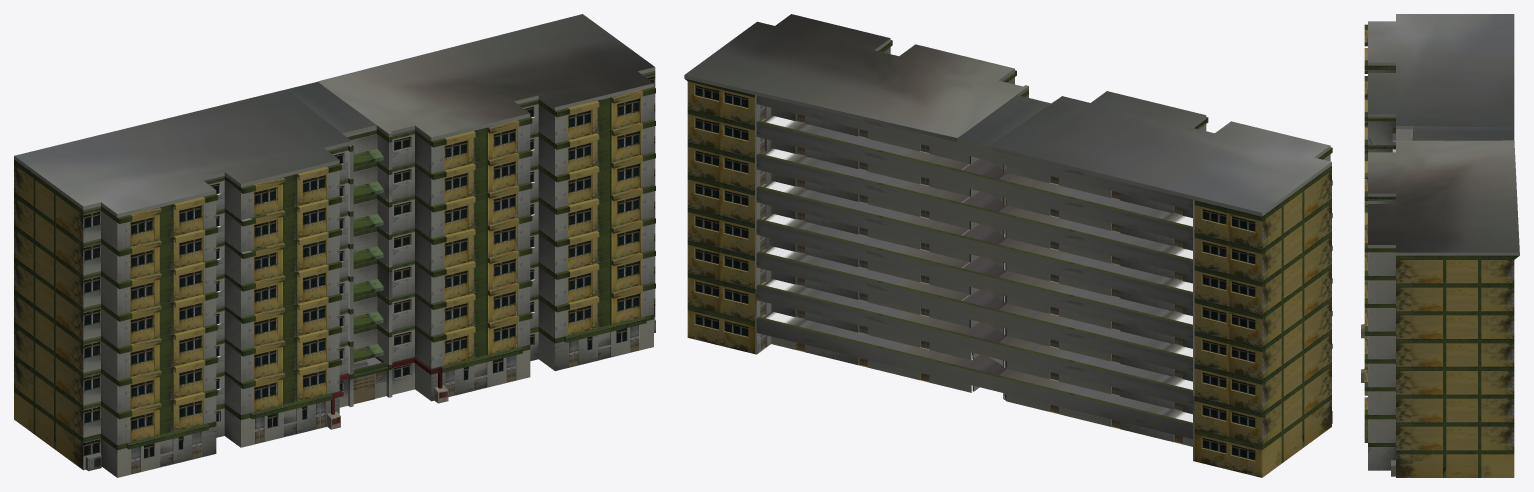
Rendered from ps1_stylehdb.glb.
3 views of the same model, side by side, from view 1: azimuth 30°, elevation 25°; view 2: azimuth 150°, elevation 25°; view 3: azimuth 270°, elevation 25° (orthographic). The views are drawn at different scales.
Parts seen in each view (by area): view 1: hdb; view 2: hdb; view 3: hdb.
Boxes of the visible parts, x1,y1,x2,y2 form: hdb: [14, 14, 655, 477]; hdb: [684, 14, 1332, 477]; hdb: [1361, 14, 1519, 477].
Bounding box in the file's own units: 5.12 × 2.26 × 1.44.
Materials: 2 (2 with a texture image).
